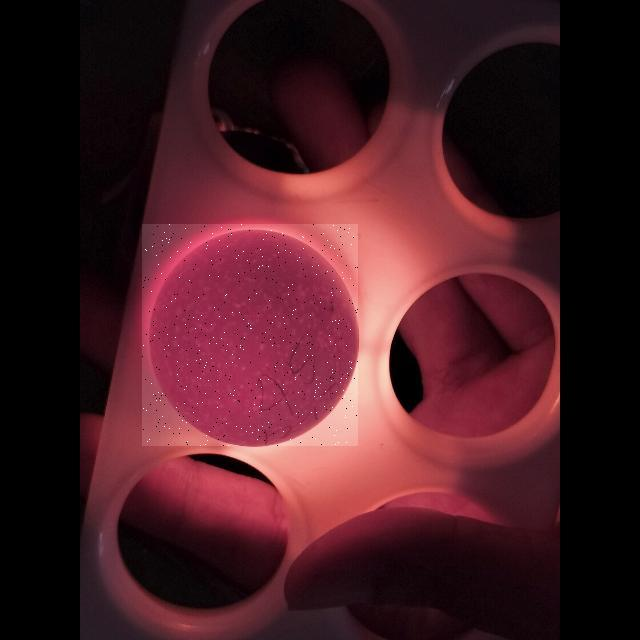Infertile: (142, 224, 358, 446)
